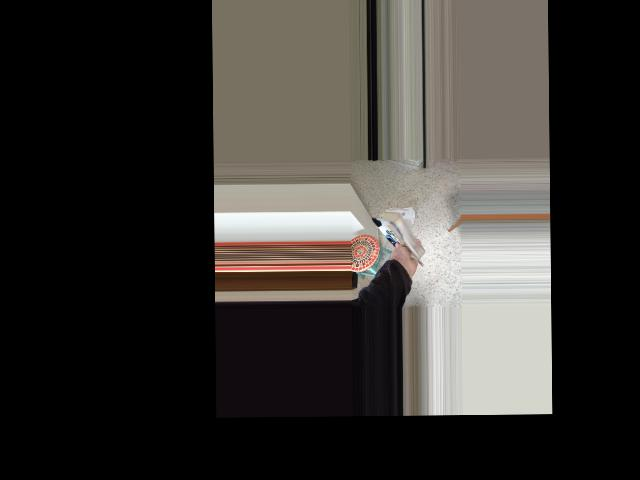cheese: (363, 202, 431, 276)
